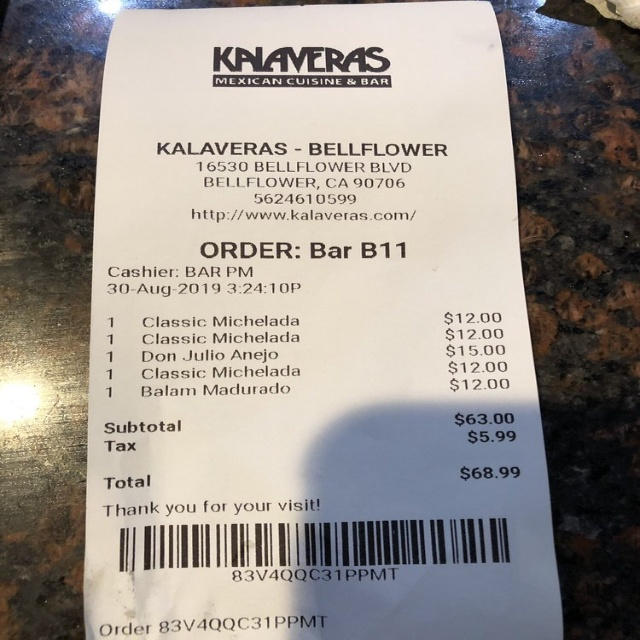invoice_table: (106, 306, 514, 401)
invoice_title: (155, 139, 453, 223)
invoice_total: (102, 460, 526, 493)
